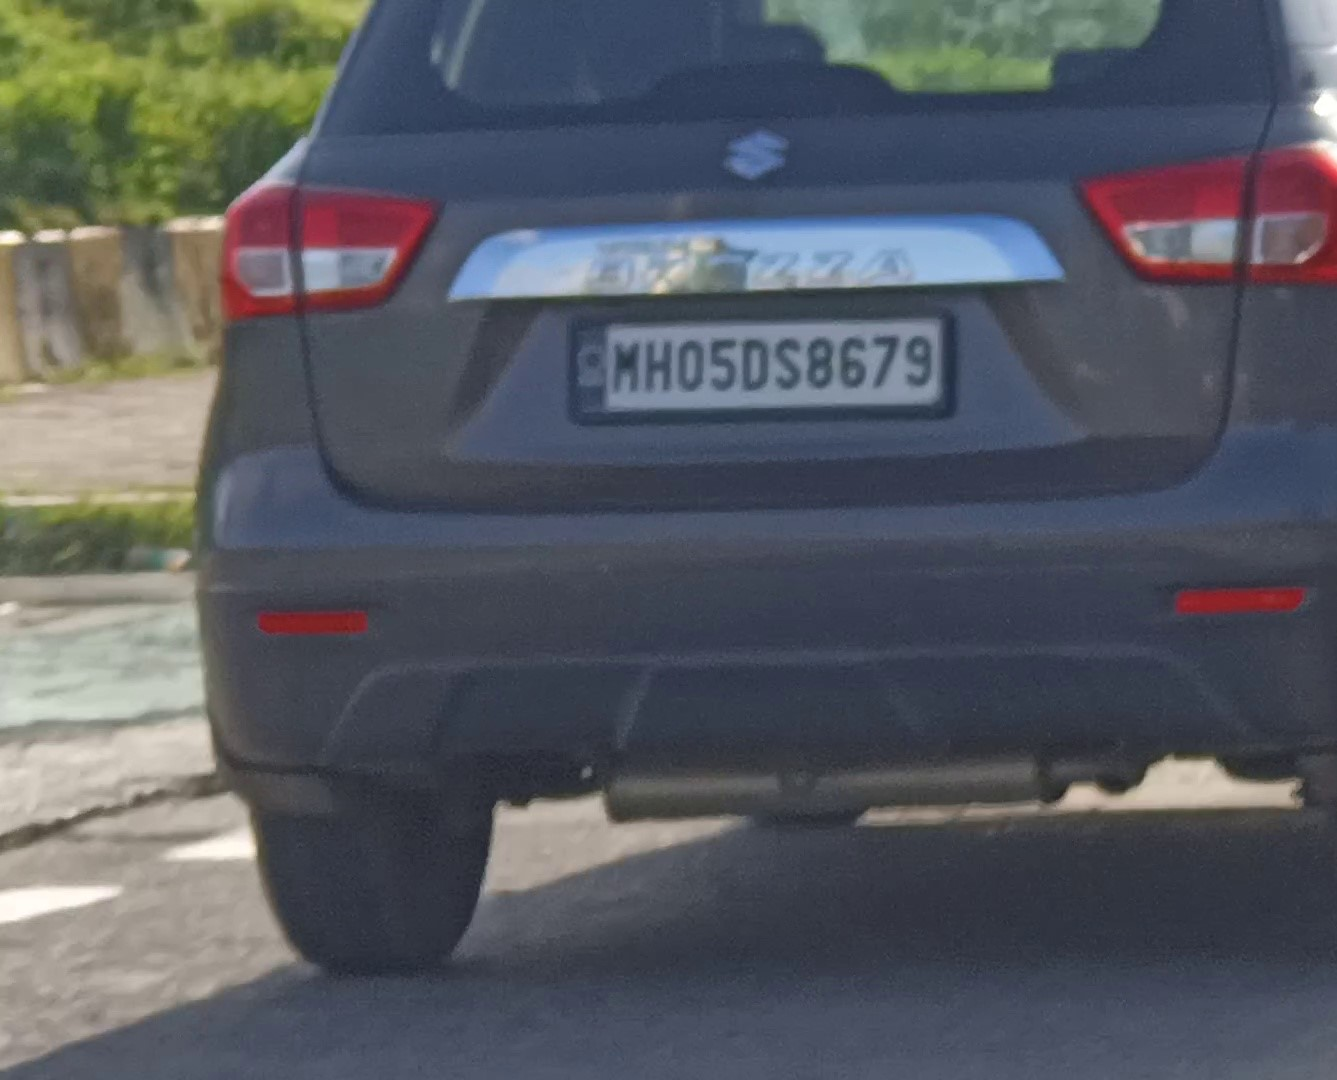MH05DS8679: (571, 316, 948, 415)
